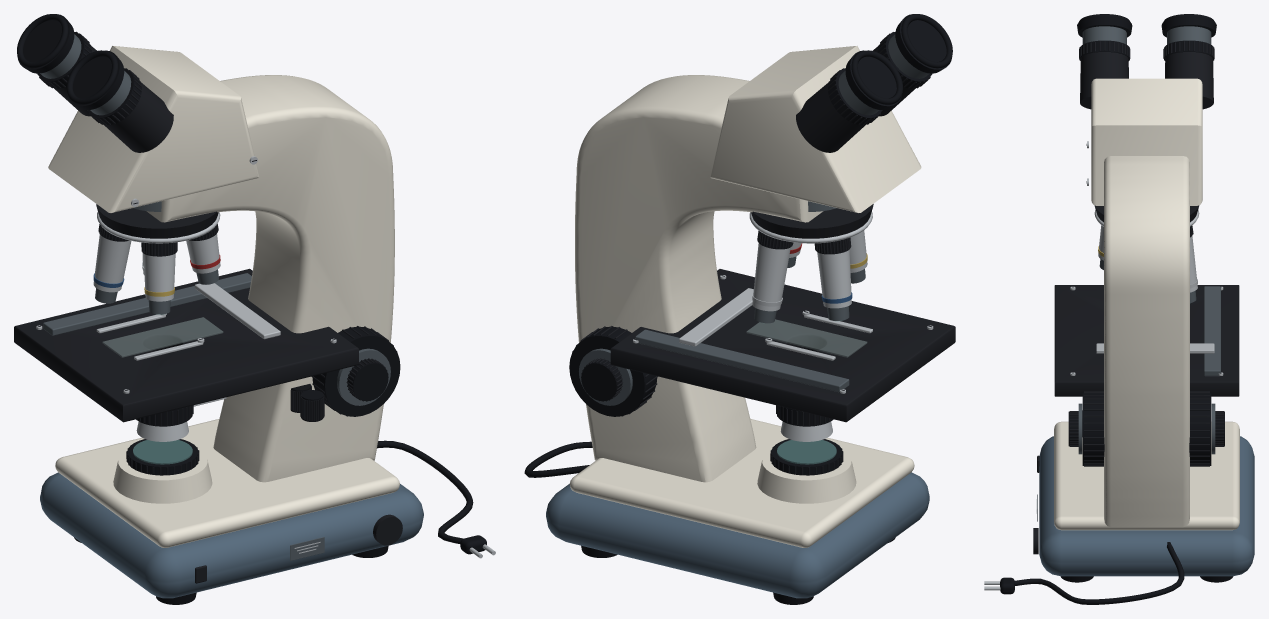
File: microscope-v2.glb
The picture shows the model from 3 angles, left to right: view 1: azimuth 30°, elevation 25°; view 2: azimuth 150°, elevation 25°; view 3: azimuth 270°, elevation 25°; orthographic projection. The views are drawn at different scales.
Visible parts, largest first — view 1: Ivory enamel, Anodised aluminium, Blue grey casting, Rubber, Brushed steel, Dark steel, Slide glass, Optical glass; view 2: Ivory enamel, Anodised aluminium, Blue grey casting, Rubber, Brushed steel, Dark steel, Slide glass, Optical glass; view 3: Ivory enamel, Anodised aluminium, Blue grey casting, Rubber, Dark steel, Brushed steel.
Boxes of the visible parts, x1=… form: Ivory enamel: x1=48, y1=46, x2=399, y2=547; Anodised aluminium: x1=14, y1=31, x2=402, y2=583; Blue grey casting: x1=40, y1=472, x2=423, y2=598; Rubber: x1=17, y1=14, x2=486, y2=604; Brushed steel: x1=36, y1=156, x2=495, y2=558; Dark steel: x1=40, y1=34, x2=390, y2=560; Slide glass: x1=102, y1=317, x2=222, y2=357; Optical glass: x1=133, y1=314, x2=192, y2=464; Ivory enamel: x1=569, y1=46, x2=921, y2=547; Anodised aluminium: x1=572, y1=32, x2=955, y2=475; Blue grey casting: x1=546, y1=472, x2=929, y2=598; Rubber: x1=524, y1=14, x2=952, y2=604; Brushed steel: x1=633, y1=211, x2=933, y2=441; Dark steel: x1=579, y1=34, x2=929, y2=405; Slide glass: x1=746, y1=319, x2=866, y2=357; Optical glass: x1=763, y1=320, x2=842, y2=464; Ivory enamel: x1=1054, y1=78, x2=1239, y2=530; Anodised aluminium: x1=1033, y1=41, x2=1239, y2=554; Blue grey casting: x1=1039, y1=436, x2=1254, y2=576; Rubber: x1=1000, y1=14, x2=1233, y2=604; Dark steel: x1=1037, y1=26, x2=1220, y2=521; Brushed steel: x1=984, y1=141, x2=1223, y2=590.
Size of the model in its own units: 1.82 by 2.41 by 1.28.
